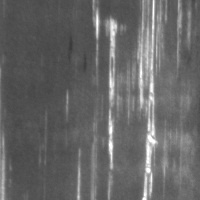scratches: (137, 1, 166, 199), (91, 12, 123, 172)
